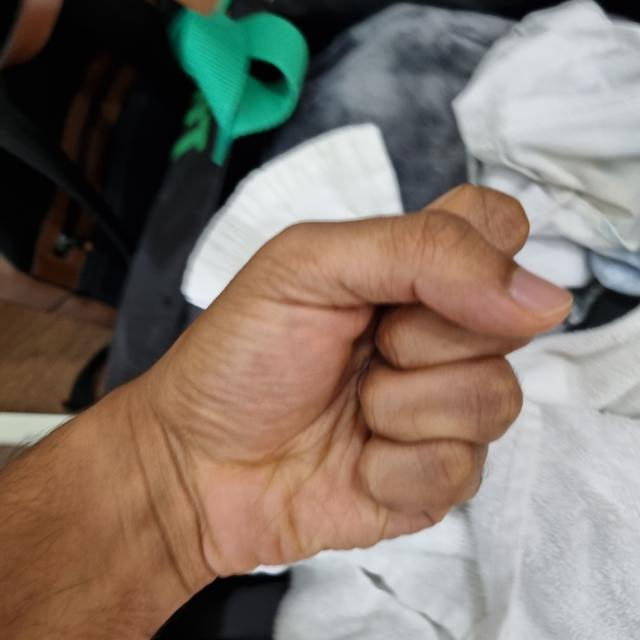Rock: (122, 197, 559, 572)
